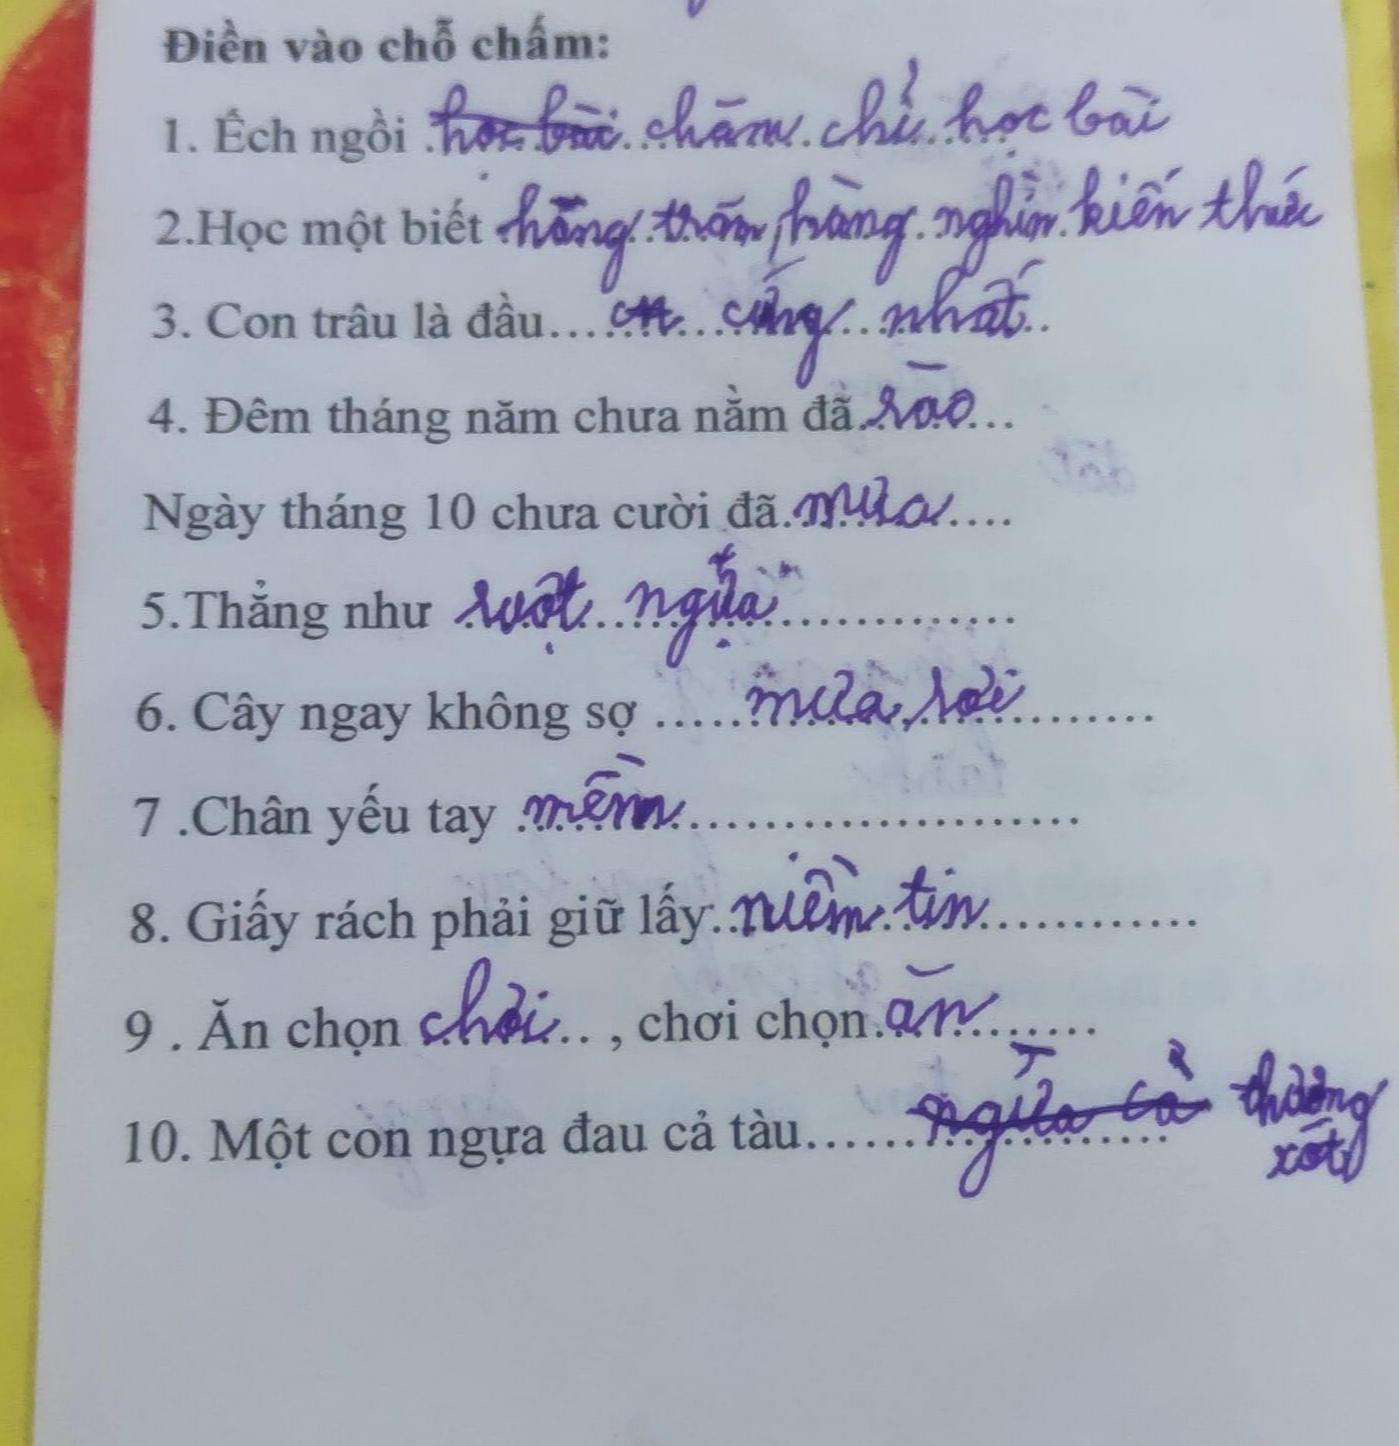text: (123, 1034, 1393, 1205), (151, 148, 1338, 298), (160, 45, 1185, 186), (148, 249, 1052, 394), (116, 950, 1005, 1066), (123, 850, 994, 957), (133, 538, 792, 678), (137, 658, 1032, 754), (145, 351, 981, 447), (137, 470, 961, 549), (128, 746, 689, 848), (160, 4, 614, 72)
